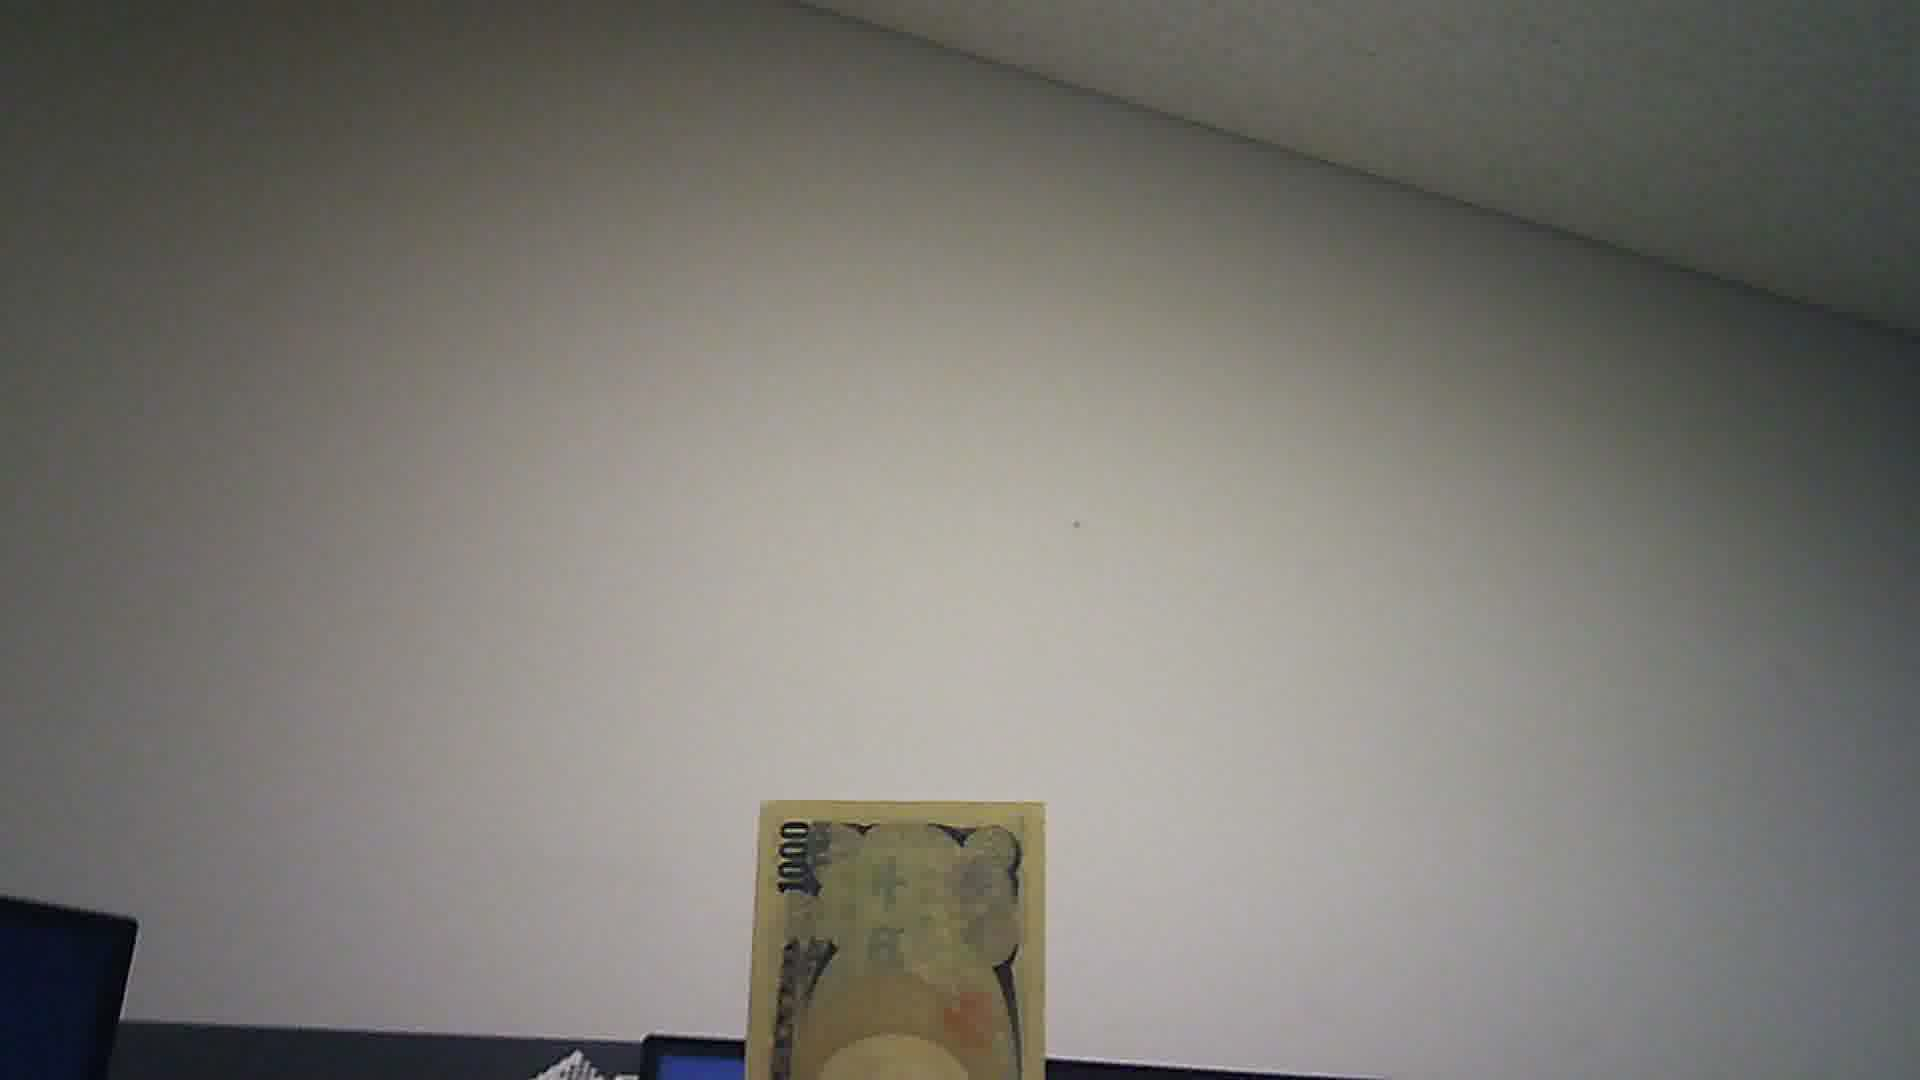1,000 Yen: (744, 796, 1054, 1079)
